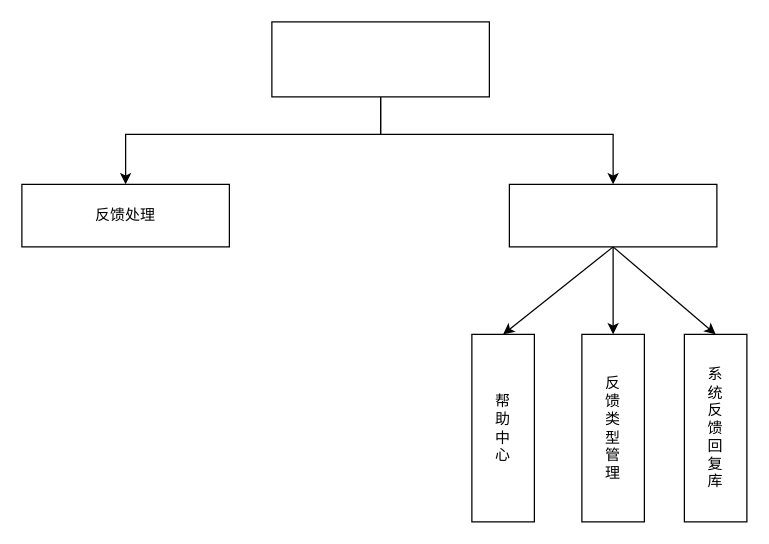
This 769x544 diagram has some shape labels left out. The shapes that lost their labels are listed below. From the top down, each one's centre as x and y in pixels, then its label:
At (x=380, y=59): "爱山东”我要吐槽“后台管理系统".
At (x=612, y=215): "配置管理".
